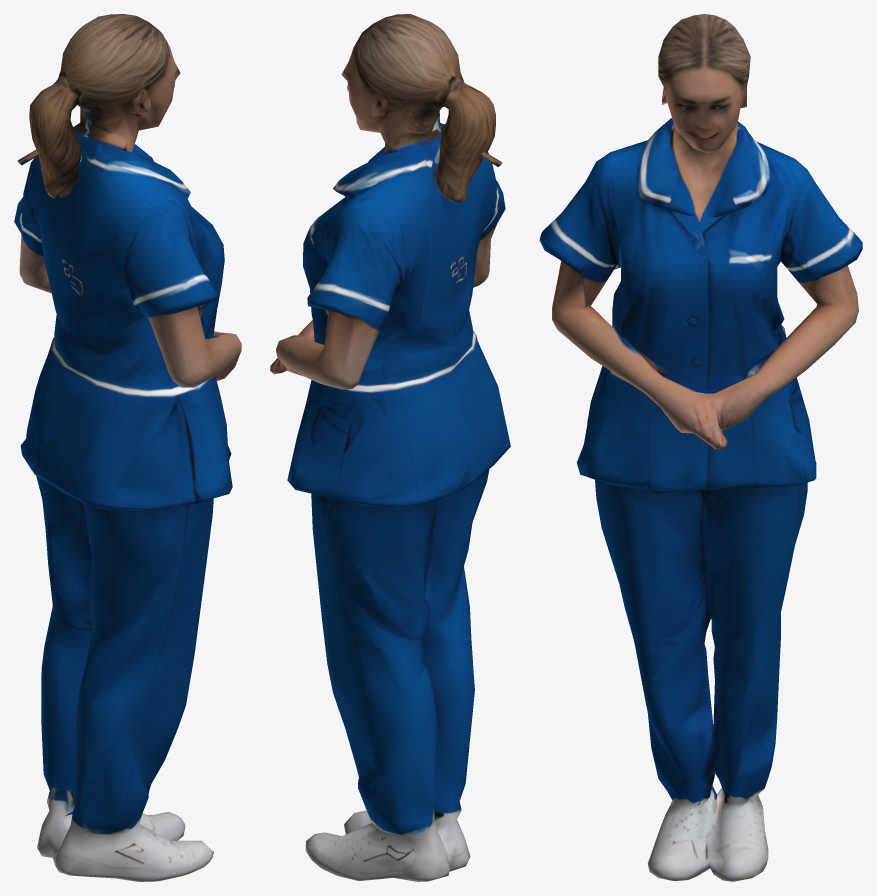
The model's file is human2.fbx.
3 renders of one model, left to right at view 1: azimuth 30°, elevation 25°; view 2: azimuth 150°, elevation 25°; view 3: azimuth 270°, elevation 25°, orthographic. The views are drawn at different scales.
Parts seen in each view (by area): view 1: tripo_node_4d82a185; view 2: tripo_node_4d82a185; view 3: tripo_node_4d82a185.
Part boxes in pixels (<box>): tripo_node_4d82a185: <box>14,14,241,881</box>; tripo_node_4d82a185: <box>270,14,510,881</box>; tripo_node_4d82a185: <box>539,14,862,881</box>.
Size of the model in its own units: 25.94 by 94.8 by 33.24.
1 material, 1 textured.
